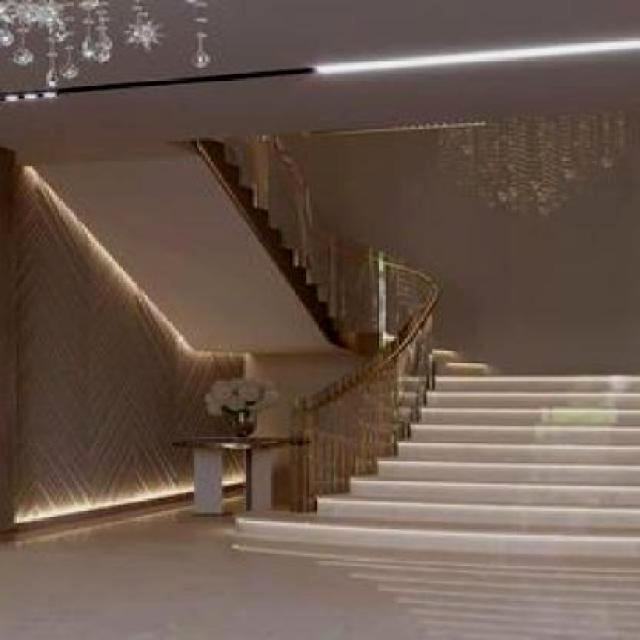stair: (198, 346, 638, 552)
